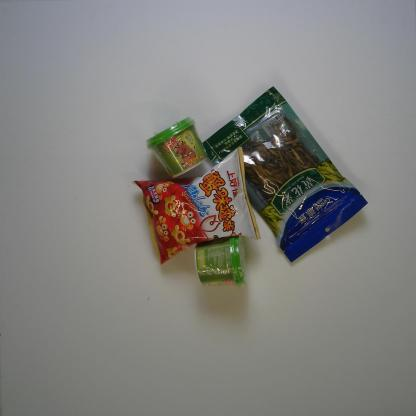Dried Food: (201, 85, 368, 263)
Instant Drink: (144, 116, 208, 178), (195, 234, 248, 288)
Puffed Food: (131, 146, 261, 266)
